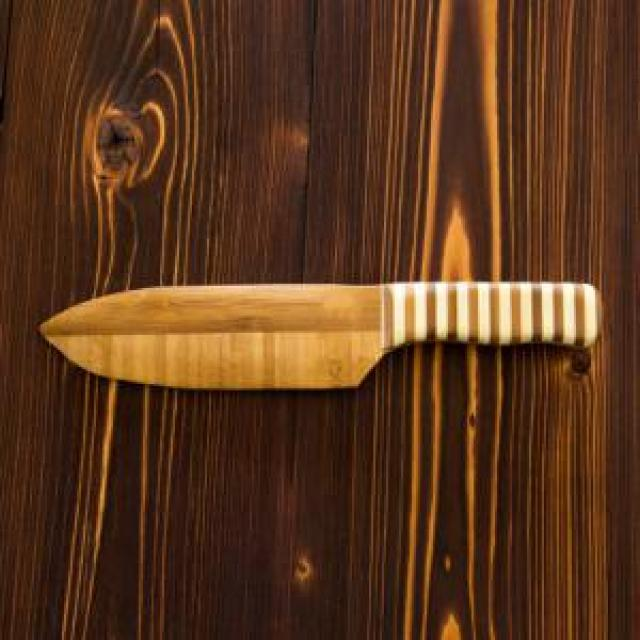knife: (38, 278, 603, 392)
